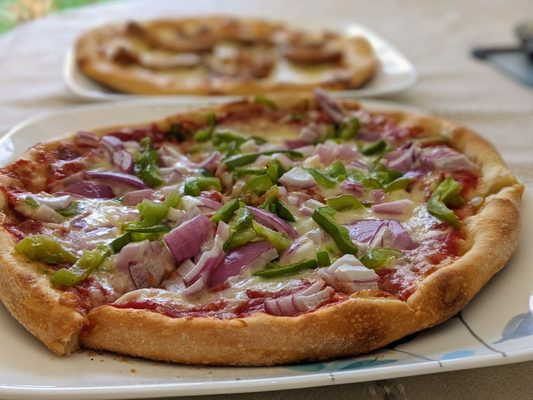curry: (1, 1, 518, 395)
sandwich: (2, 90, 526, 368), (73, 12, 378, 97)
